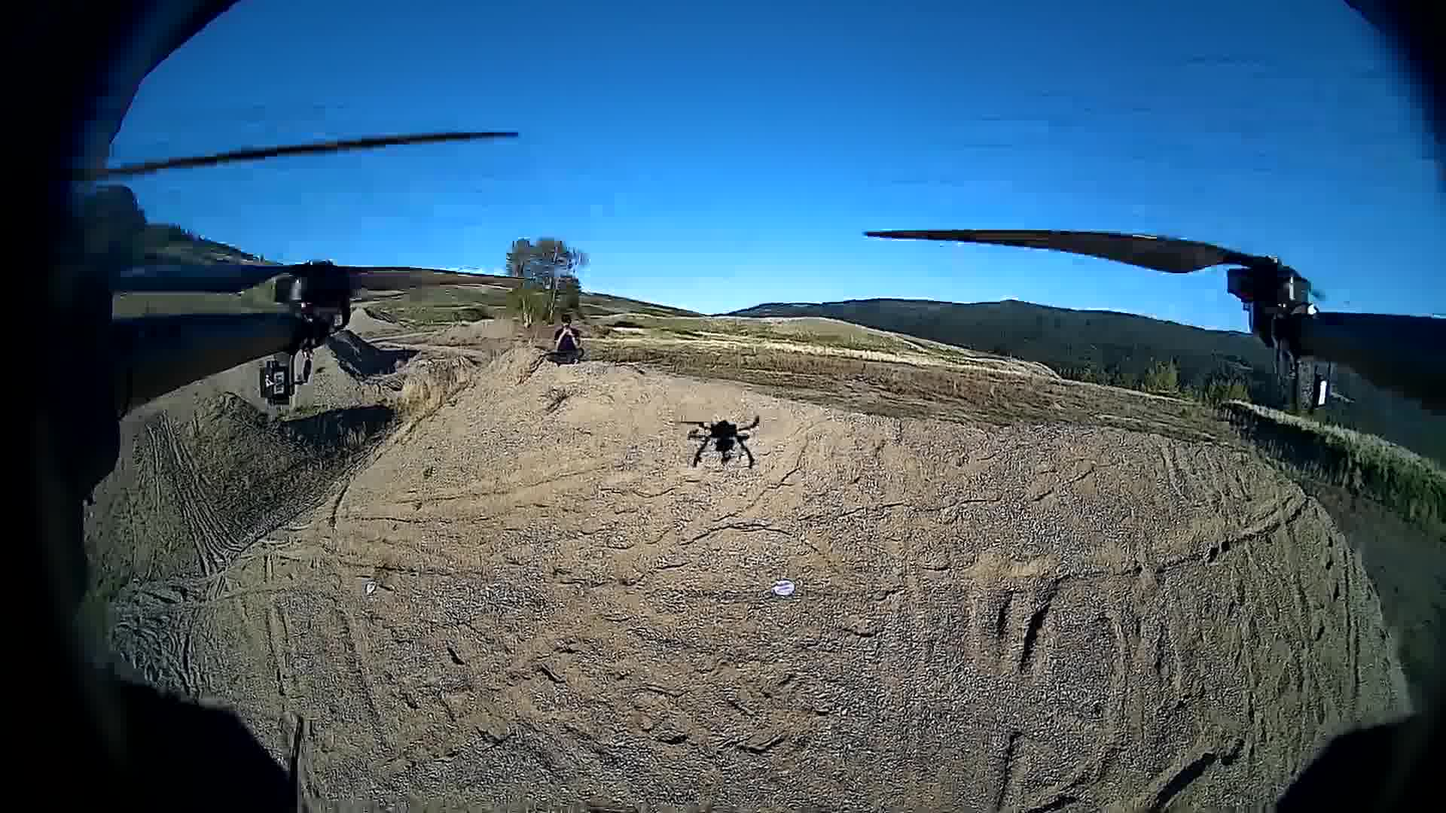Target: (774, 580, 793, 595)
